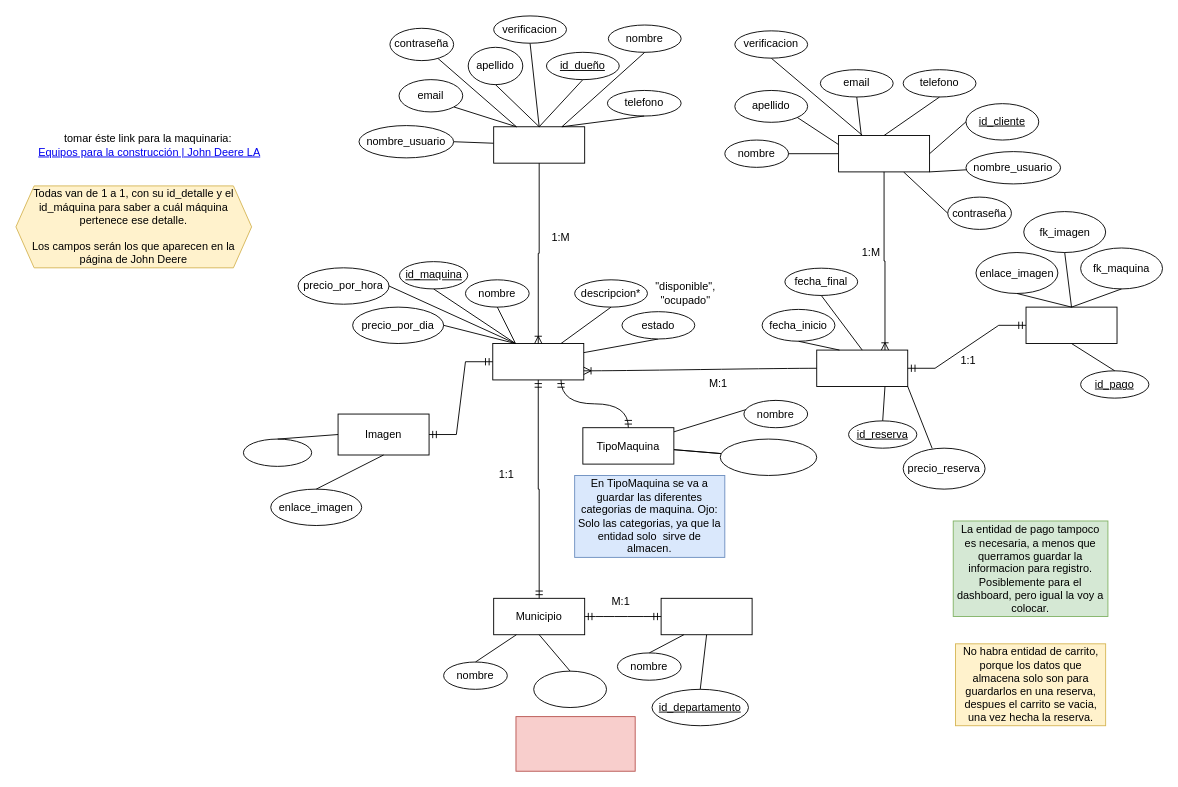
Image size: 1178x787. Some labels were removed from this diagram. The shapes that lost their labels are listed below. From the top down, each one's box as (x1, y1, x2, y2) in pixels, then its label:
(493, 126, 585, 163): Dueño
(838, 135, 930, 172): Cliente
(1025, 306, 1117, 344): Pago
(492, 343, 584, 380): Maquina
(816, 349, 908, 386): Reserva
(243, 438, 312, 466): id_imagen
(719, 438, 817, 475): id_categoria
(660, 597, 752, 635): Departamento
(533, 670, 607, 708): id_municipio
(515, 716, 635, 771): Municipio y departamento son necesarios para realizar la filtracion
